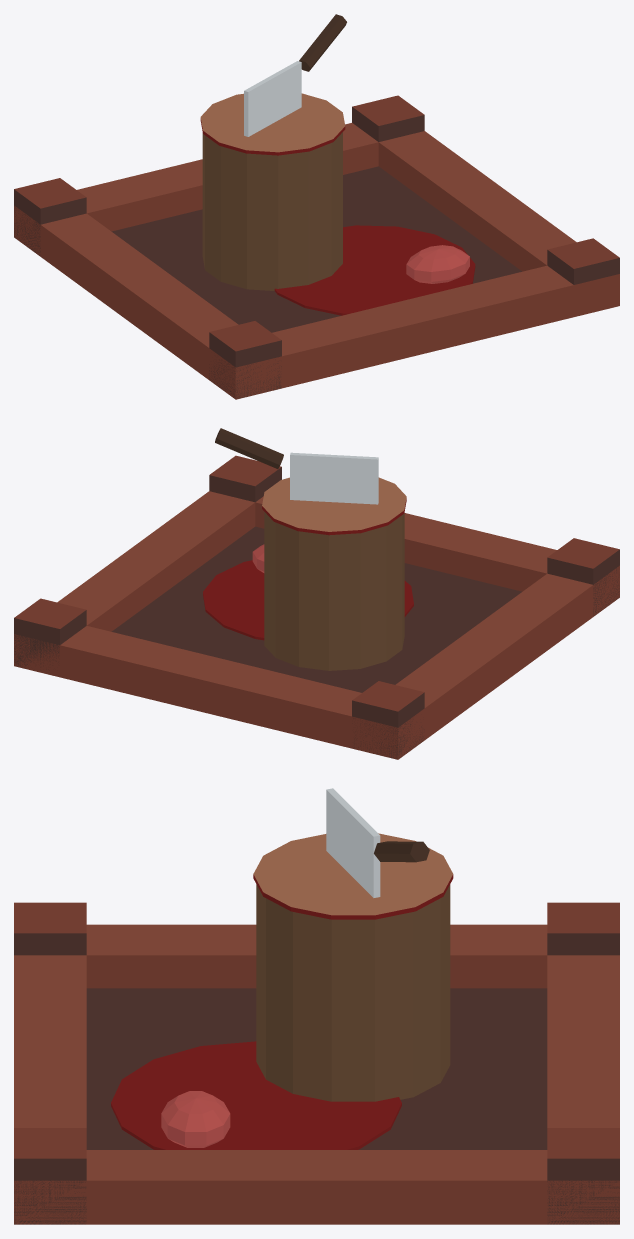
The model's file is Building_ButcherSpot.glb.
3 views of the same model, one above another, from view 1: azimuth 30°, elevation 25°; view 2: azimuth 150°, elevation 25°; view 3: azimuth 270°, elevation 25° (orthographic). The views are drawn at different scales.
Visible parts, largest first — view 1: ButcherSpot; view 2: ButcherSpot; view 3: ButcherSpot.
Part boxes in pixels (x1=…): ButcherSpot: x1=14, y1=14, x2=619, y2=399; ButcherSpot: x1=14, y1=428, x2=619, y2=759; ButcherSpot: x1=14, y1=788, x2=619, y2=1224.
Bounding box in the file's own units: 1 × 0.5344 × 1.
Materials: 1 (1 with a texture image).
